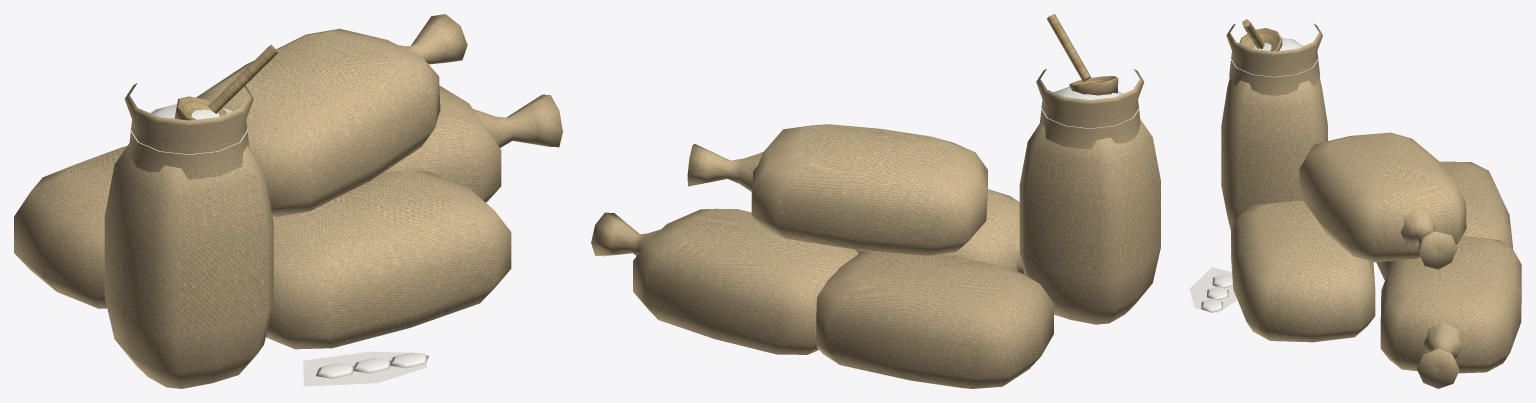
File: prop_flourSacks.glb
3 views of the same model, side by side, from view 1: azimuth 30°, elevation 25°; view 2: azimuth 150°, elevation 25°; view 3: azimuth 270°, elevation 25° (orthographic). The views are drawn at different scales.
Parts seen in each view (by area): view 1: prop; view 2: prop; view 3: prop.
Part boxes in pixels (x1,y1,x2,y2): prop: (14, 14, 562, 388); prop: (591, 14, 1160, 388); prop: (1189, 19, 1521, 388).
Bounding box in the file's own units: 0.8155 × 0.4758 × 0.5838.
Materials: 3 (2 with a texture image).
